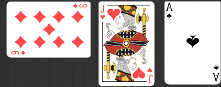8D: (72, 3, 89, 10)
9D: (10, 50, 27, 56)
AC: (166, 3, 175, 20)
